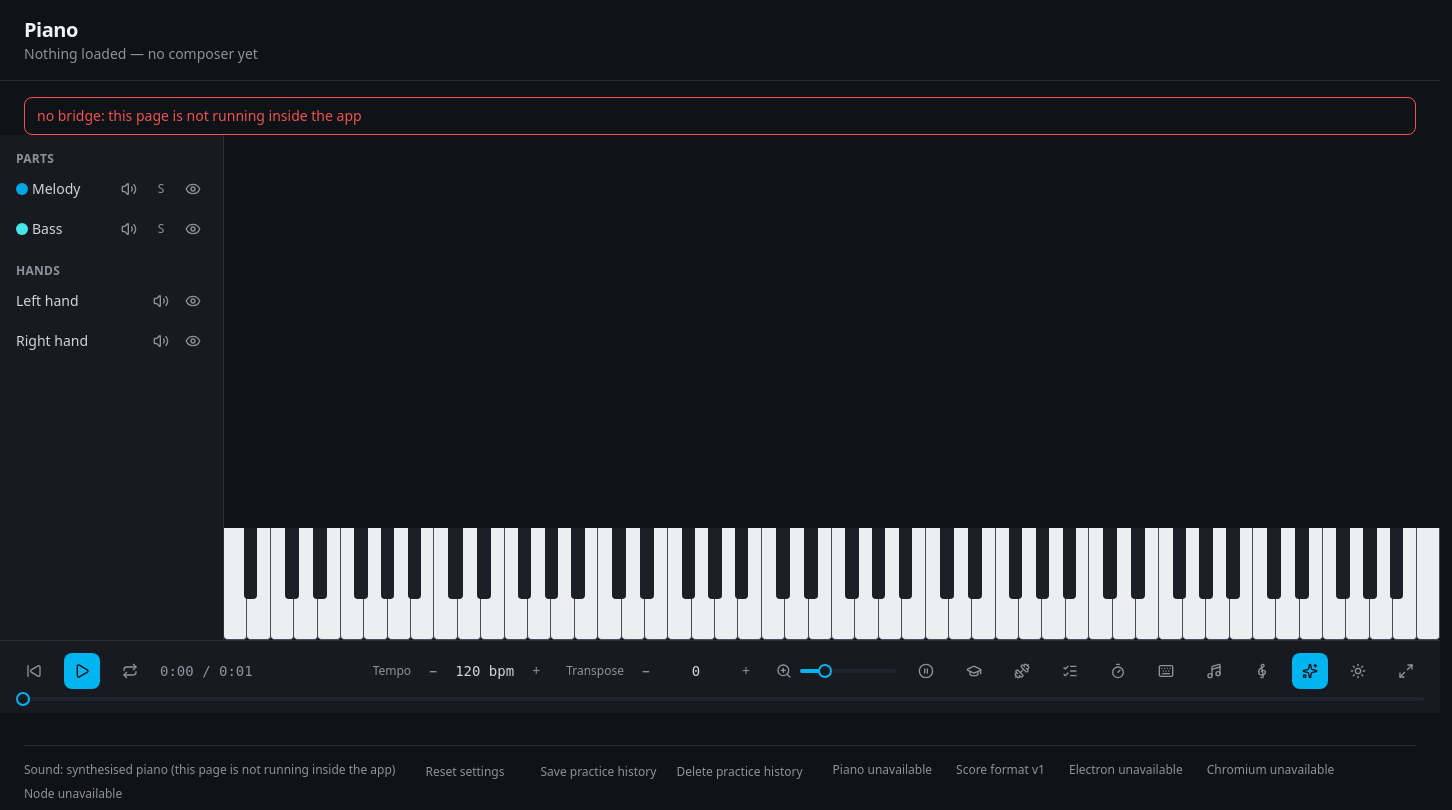
Test case: the app › shows the roll its own slider, not the stave’s
The width and height of the screenshot is (1452, 810).
Expected: the element named "Seconds of music on screen" is shown, x1=800 y1=669 x2=896 y2=673
What coordinates should you click on to do the following:
click the button named "Show the sheet music"
I would click on:
 (1262, 671)
Its box is x1=1244 y1=653 x2=1280 y2=689.
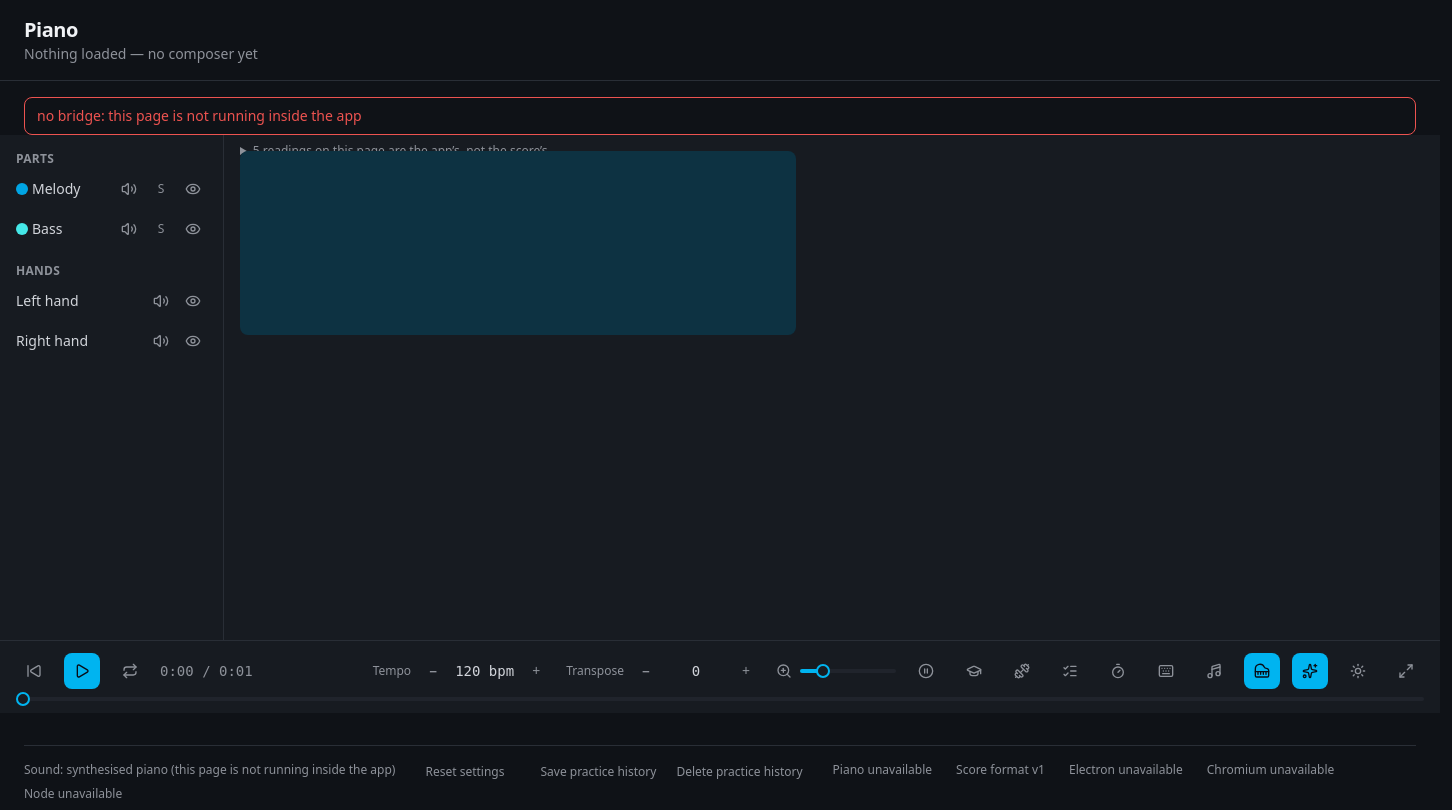
Result: the element named "Sheet music" is shown at x1=224 y1=135 x2=1440 y2=640
Result: the element named "How large the stave is drawn" is shown at x1=800 y1=669 x2=896 y2=673
